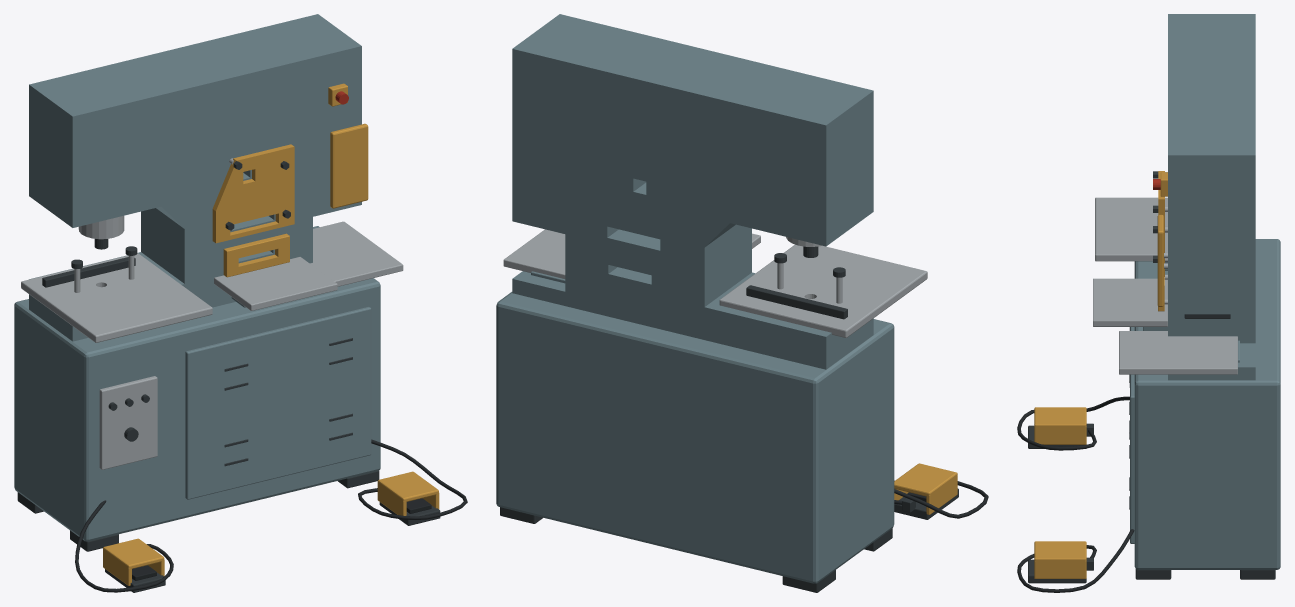
Rendered from A-NEW-20261026-HYDRAULIC-IRONWORKER-001_LOD1_R2.fbx.
The picture shows the model from 3 angles, left to right: view 1: azimuth 30°, elevation 25°; view 2: azimuth 150°, elevation 25°; view 3: azimuth 270°, elevation 25°; orthographic projection. The views are drawn at different scales.
Parts seen in each view (by area): view 1: one continuous multi station upper body, integral lower cabinet, front service panel, left punch worktable, central guarded feed plate, left console panel, central worktable, right station worktable, right front safety plate, lower guarded feed plate, pedal hood top -1, pedal hood top 1 (+4 smaller); view 2: one continuous multi station upper body, integral lower cabinet, left punch worktable, right station worktable, pedal hood top -1, left rear fence, attached pedal cable -1; view 3: integral lower cabinet, one continuous multi station upper body, right station worktable, left punch worktable, central worktable, pedal hood top 1, pedal hood top -1, pedal hood side -1 0.09, pedal hood side 1 0.09, front service panel, attached pedal cable 1, attached pedal cable -1 (+4 smaller).
Part boxes in pixels (x1,y1,x2,y2): one continuous multi station upper body: [29, 14, 361, 341]; integral lower cabinet: [14, 278, 380, 541]; front service panel: [185, 306, 371, 499]; left punch worktable: [21, 253, 212, 342]; central guarded feed plate: [212, 144, 294, 243]; left console panel: [99, 376, 157, 469]; central worktable: [214, 257, 337, 310]; right station worktable: [310, 221, 403, 286]; right front safety plate: [330, 123, 368, 208]; lower guarded feed plate: [223, 233, 289, 277]; pedal hood top -1: [103, 538, 164, 568]; pedal hood top 1: [377, 471, 438, 501]; one continuous multi station upper body: [512, 14, 873, 369]; integral lower cabinet: [496, 292, 894, 583]; left punch worktable: [719, 244, 927, 337]; right station worktable: [503, 229, 565, 278]; pedal hood top -1: [894, 463, 957, 496]; left rear fence: [746, 285, 847, 319]; attached pedal cable -1: [894, 480, 988, 518]; integral lower cabinet: [1134, 239, 1280, 569]; one continuous multi station upper body: [1168, 14, 1255, 380]; right station worktable: [1119, 331, 1237, 374]; left punch worktable: [1095, 197, 1167, 261]; central worktable: [1093, 278, 1167, 326]; pedal hood top 1: [1034, 541, 1086, 561]; pedal hood top -1: [1034, 407, 1086, 427]; pedal hood side -1 0.09: [1034, 426, 1086, 444]; pedal hood side 1 0.09: [1034, 560, 1086, 578]; front service panel: [1130, 327, 1134, 543]; attached pedal cable 1: [1017, 529, 1134, 592]; attached pedal cable -1: [1017, 396, 1129, 450].
Bounding box in the file's own units: 206 × 224 × 126.
